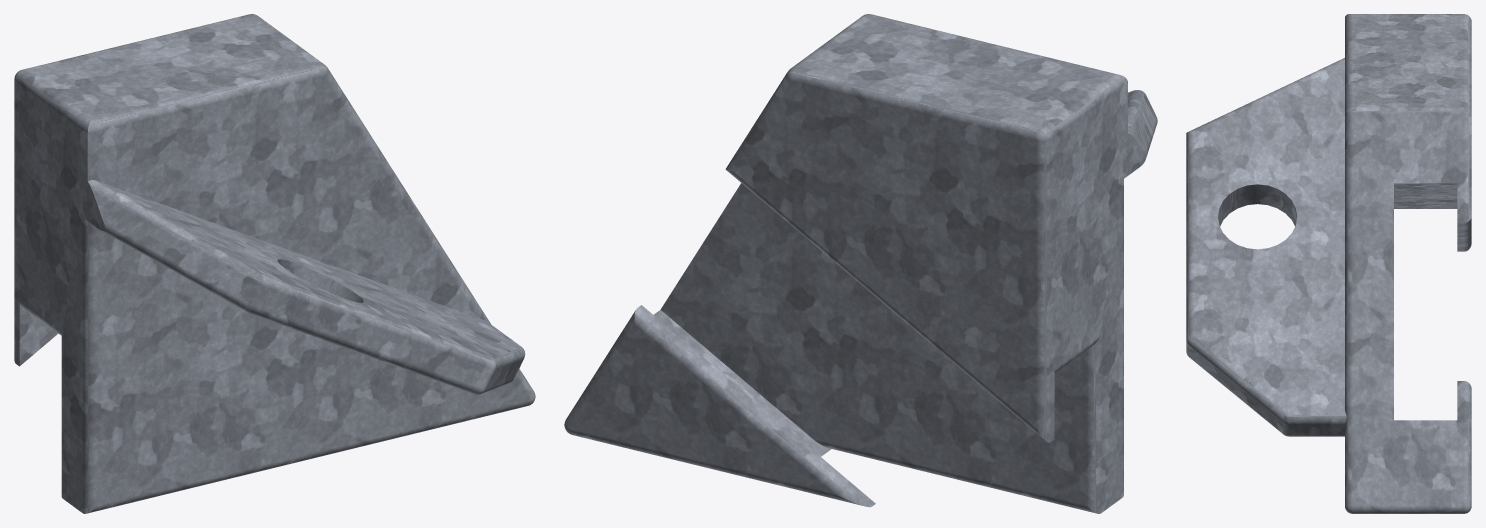
Rendered from Practice22_1.glb.
3 views of the same model, side by side, from view 1: azimuth 30°, elevation 25°; view 2: azimuth 150°, elevation 25°; view 3: azimuth 270°, elevation 25° (orthographic). The views are drawn at different scales.
Parts seen in each view (by area): view 1: Default - Part; view 2: Default - Part; view 3: Default - Part.
Part boxes in pixels (x1=…): Default - Part: x1=14, y1=14, x2=535, y2=513; Default - Part: x1=564, y1=14, x2=1157, y2=513; Default - Part: x1=1186, y1=14, x2=1471, y2=513.
Size of the model in its own units: 0.1085 by 0.09 by 0.072.
Materials: 1 (1 with a texture image).
